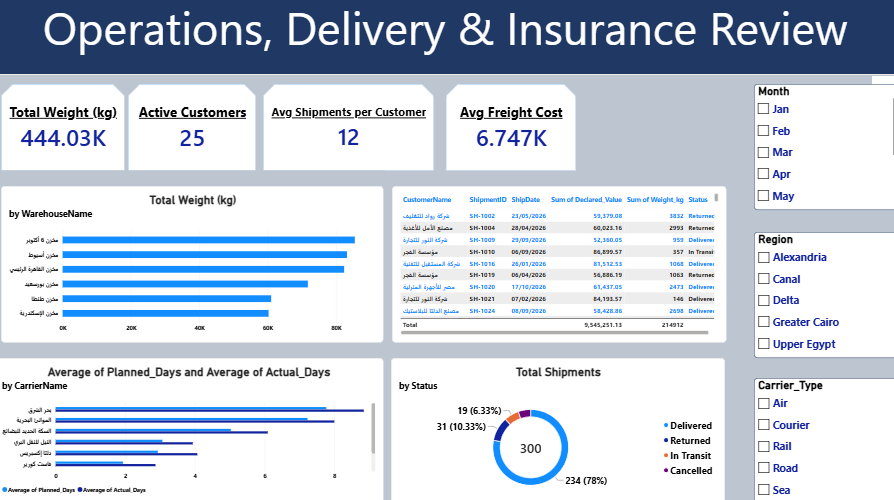

The dashboard page shown, as its layout file describes it:
{"tool":"powerbi","page":{"name":"Operations, Delivery & Insurance Review","canvas":[1920,1080],"ordinal":2},"visuals":[{"type":"shape","box":[0,0,1919.8,168],"z":0},{"type":"textbox","box":[0,0,1919.1,168.1],"z":1000},{"type":"slicer","fields":{"Values":["Calendar.Month"]},"box":[1615,187.5,305,267.5],"z":2000},{"type":"slicer","fields":{"Values":["Carriers.Carrier_Type"]},"box":[1615,812.5,305,267.5],"z":3000},{"type":"slicer","fields":{"Values":["Warehouses.Region"]},"box":[1615,502.5,305,267.5],"z":4000},{"type":"clusteredBarChart","fields":{"Category":["Carriers.CarrierName"],"Y":["Avg(Shipments.Planned_Days)","Avg(Shipments.Actual_Days)"]},"box":[0,770,827.5,310],"z":5000},{"type":"donutChart","fields":{"Category":["Shipments.Status"],"Y":["_Measures.Total Shipments"]},"box":[845,770,710,310],"z":6000},{"type":"cardVisual","fields":{"Data":["_Measures.Total Weight (kg)"]},"box":[15.2,187,263.6,185],"z":7000},{"type":"cardVisual","fields":{"Data":["_Measures.Active Customers"]},"box":[284.8,187,272.1,185],"z":8000},{"type":"cardVisual","fields":{"Data":["_Measures.Avg Shipments per Customer"]},"box":[571.7,187,363,184.8],"z":9000},{"type":"cardVisual","fields":{"Data":["_Measures.Avg Freight Cost"]},"box":[960.9,187,276.4,185],"z":10000},{"type":"clusteredBarChart","fields":{"Category":["Warehouses.WarehouseName"],"Y":["_Measures.Total Weight (kg)"]},"box":[15.2,404.3,813,332.6],"z":11000},{"type":"tableEx","fields":{"Values":["Customers.CustomerName","Shipments.ShipmentID","Shipments.ShipDate","Sum(Shipments.Declared_Value)","Sum(Shipments.Weight_kg)","Shipments.Status"]},"box":[845.7,404.3,710.9,332.6],"z":12000}]}

Visuals, with their boxes in screenshot pixels (x1, y1, x2, y2), scaled from the page's 1920x1080 canvas onto the 894x500 screenshot:
shape: pyautogui.locateOnScreen(0, 0, 893, 78)
textbox: pyautogui.locateOnScreen(0, 0, 893, 78)
slicer - Calendar.Month: pyautogui.locateOnScreen(752, 87, 893, 211)
slicer - Carriers.Carrier_Type: pyautogui.locateOnScreen(752, 376, 893, 499)
slicer - Warehouses.Region: pyautogui.locateOnScreen(752, 233, 893, 356)
clusteredBarChart - Carriers.CarrierName x Avg(Shipments.Planned_Days): pyautogui.locateOnScreen(0, 356, 385, 499)
donutChart - Shipments.Status x _Measures.Total Shipments: pyautogui.locateOnScreen(393, 356, 724, 499)
cardVisual - _Measures.Total Weight (kg): pyautogui.locateOnScreen(7, 87, 130, 172)
cardVisual - _Measures.Active Customers: pyautogui.locateOnScreen(133, 87, 259, 172)
cardVisual - _Measures.Avg Shipments per Customer: pyautogui.locateOnScreen(266, 87, 435, 172)
cardVisual - _Measures.Avg Freight Cost: pyautogui.locateOnScreen(447, 87, 576, 172)
clusteredBarChart - Warehouses.WarehouseName x _Measures.Total Weight (kg): pyautogui.locateOnScreen(7, 187, 386, 341)
tableEx - Customers.CustomerName x Shipments.ShipmentID: pyautogui.locateOnScreen(394, 187, 725, 341)
